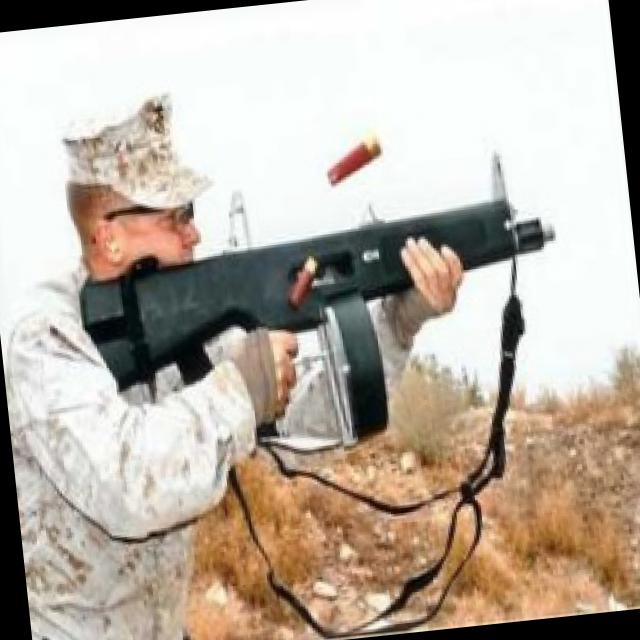long weapon: (193, 143, 586, 446)
